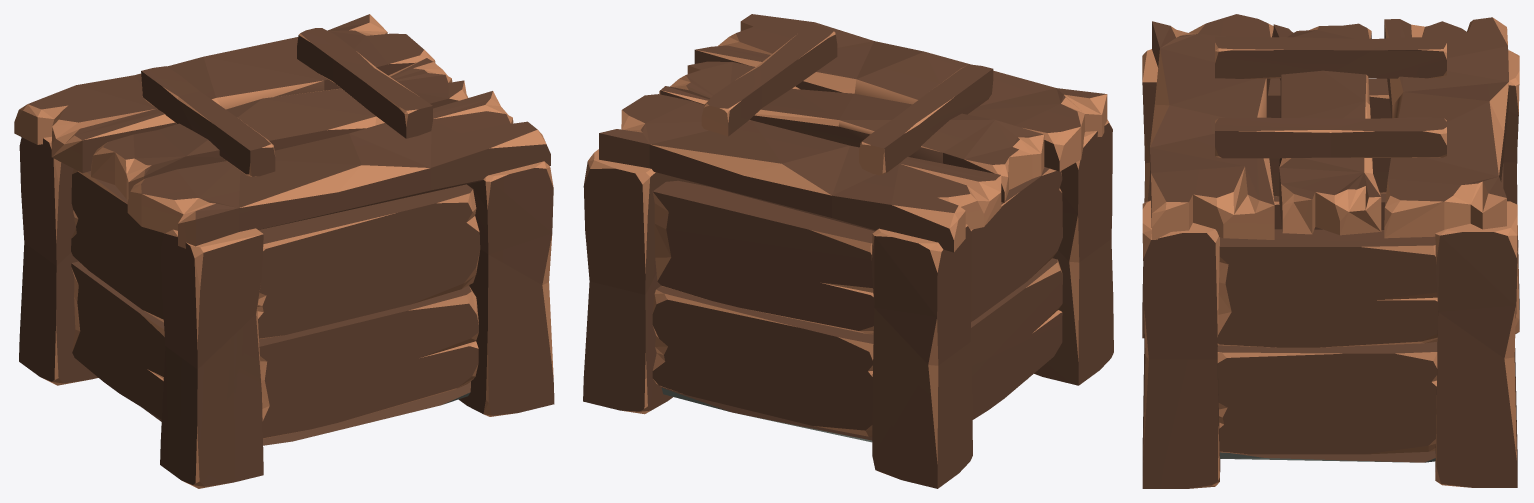
File: Varil.fbx
The picture shows the model from 3 angles, left to right: view 1: azimuth 30°, elevation 25°; view 2: azimuth 150°, elevation 25°; view 3: azimuth 270°, elevation 25°; orthographic projection. The views are drawn at different scales.
Parts seen in each view (by area): view 1: Varil; view 2: Varil; view 3: Varil.
Part boxes in pixels (<box>): Varil: <box>14,14,554,488</box>; Varil: <box>583,14,1113,488</box>; Varil: <box>1142,14,1519,488</box>.
Bounding box in the file's own units: 48.35 × 36.87 × 40.31.
